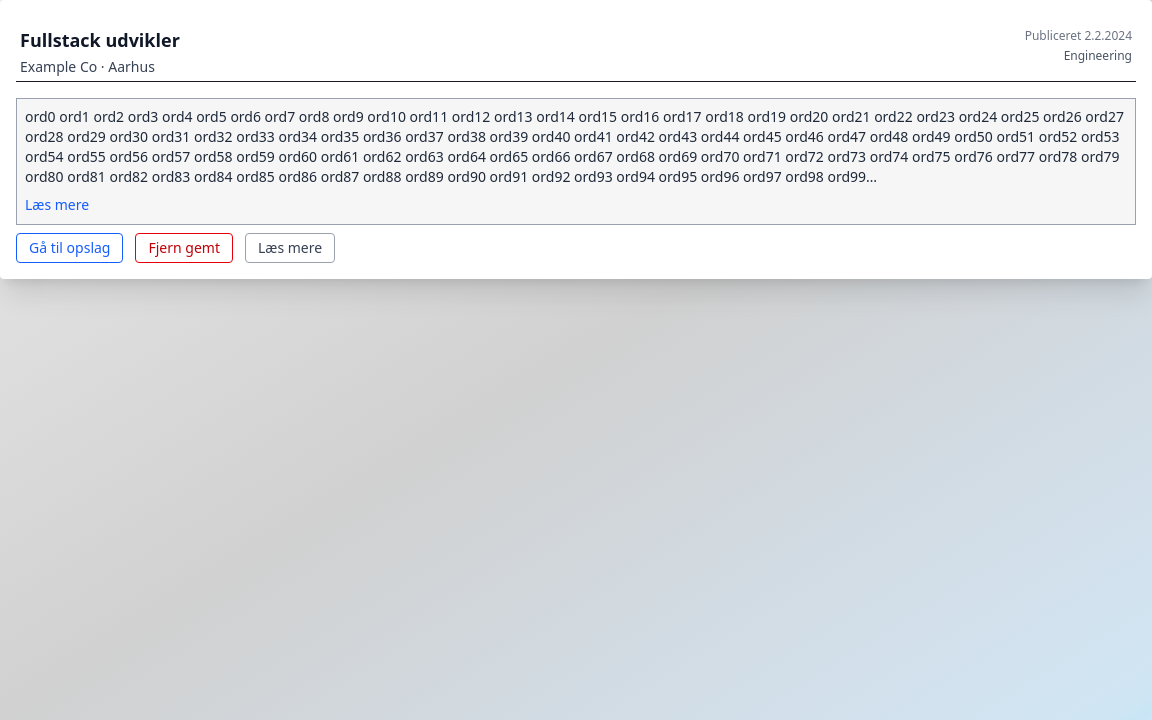
it: JobList interactions › removes a saved job
Click the button "Fjern gemt": (184, 248) [136,233,233,263]
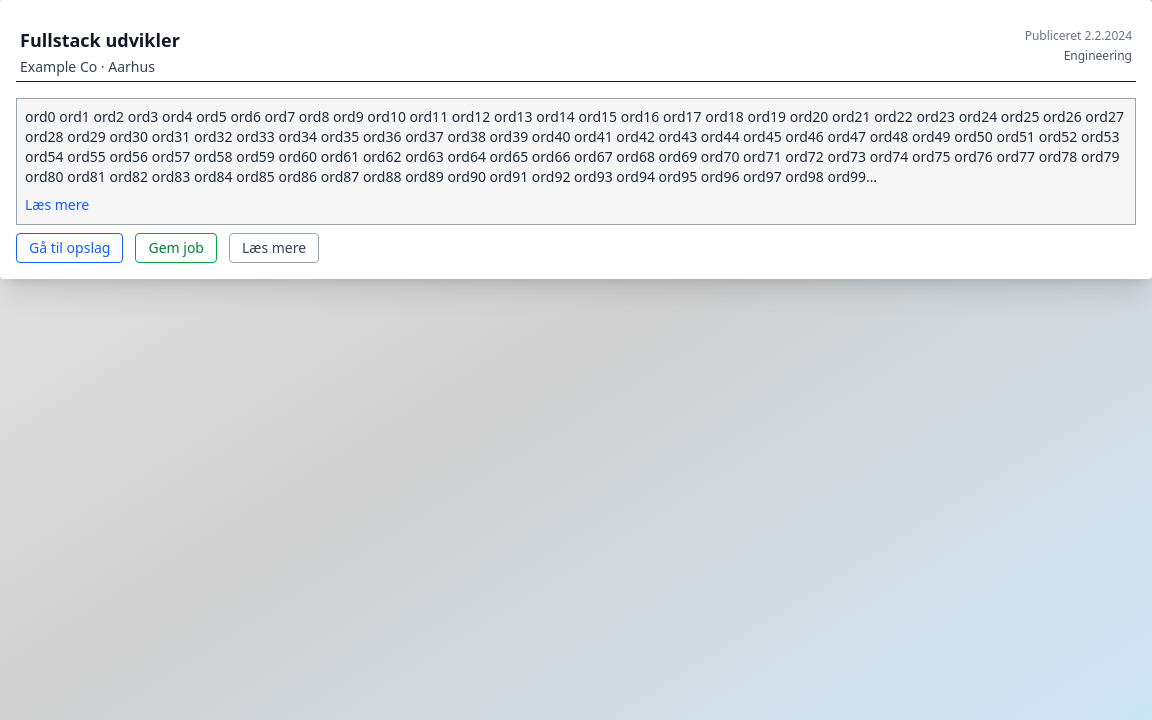
Check: the button "Gem job" is shown, box [136,233,217,263]
